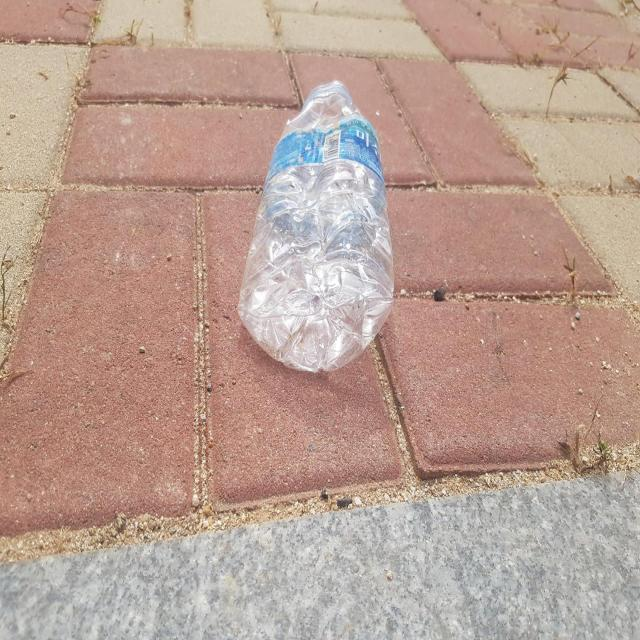plastic: (238, 79, 394, 371)
